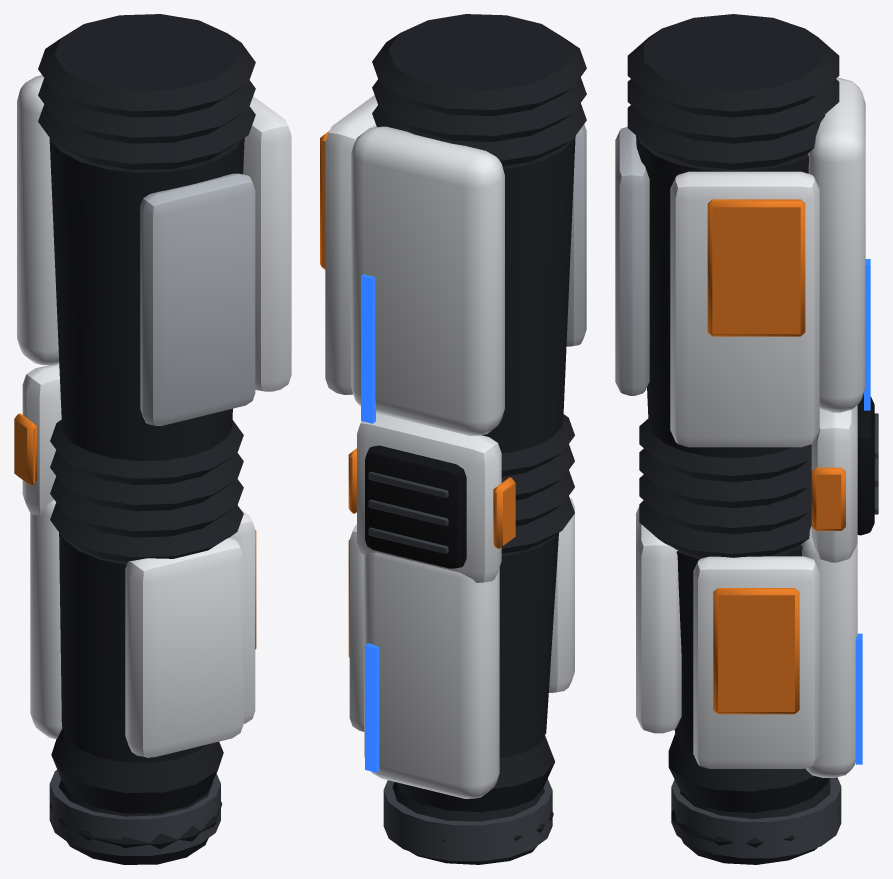
File: leg_r.glb
3 renders of one model, left to right at view 1: azimuth 30°, elevation 25°; view 2: azimuth 150°, elevation 25°; view 3: azimuth 270°, elevation 25°, orthographic.
Parts seen in each view (by area): view 1: LegR_Undersuit, ShinR_Suit_White, ShinR_Undersuit, LegR_Suit_Grey, LegR_Suit_White, ShinR_Metal_Dark, ShinR_Suit_Orange; view 2: LegR_Suit_White, LegR_Undersuit, ShinR_Suit_White, ShinR_Undersuit, ShinR_Metal_Dark, ShinR_Rubber, LegR_Suit_Grey, ShinR_Suit_Orange, LegR_Strip_Blue, ShinR_Strip_Blue, LegR_Suit_Orange; view 3: LegR_Undersuit, LegR_Suit_White, ShinR_Suit_White, ShinR_Undersuit, LegR_Suit_Orange, ShinR_Suit_Orange, LegR_Suit_Grey, ShinR_Metal_Dark, ShinR_Rubber, ShinR_Strip_Blue, LegR_Strip_Blue.
Part boxes in pixels (<box>): LegR_Undersuit: <box>38,14,255,511</box>; ShinR_Suit_White: <box>22,364,255,757</box>; ShinR_Undersuit: <box>50,476,243,864</box>; LegR_Suit_Grey: <box>140,173,255,425</box>; LegR_Suit_White: <box>17,75,291,391</box>; ShinR_Metal_Dark: <box>49,770,220,855</box>; ShinR_Suit_Orange: <box>14,413,256,649</box>; LegR_Suit_White: <box>325,95,504,435</box>; LegR_Undersuit: <box>372,14,586,500</box>; ShinR_Suit_White: <box>349,413,574,798</box>; ShinR_Undersuit: <box>392,470,574,864</box>; ShinR_Metal_Dark: <box>368,471,552,861</box>; ShinR_Rubber: <box>365,445,466,568</box>; LegR_Suit_Grey: <box>566,124,586,346</box>; ShinR_Suit_Orange: <box>348,448,515,657</box>; LegR_Strip_Blue: <box>361,274,375,423</box>; ShinR_Strip_Blue: <box>365,643,379,772</box>; LegR_Suit_Orange: <box>320,131,329,269</box>; LegR_Undersuit: <box>627,14,839,508</box>; LegR_Suit_White: <box>670,78,865,447</box>; ShinR_Suit_White: <box>636,405,857,777</box>; ShinR_Undersuit: <box>639,474,838,864</box>; LegR_Suit_Orange: <box>707,199,805,336</box>; ShinR_Suit_Orange: <box>713,467,845,714</box>; LegR_Suit_Grey: <box>615,127,649,395</box>; ShinR_Metal_Dark: <box>671,413,878,858</box>; ShinR_Rubber: <box>857,393,874,535</box>; ShinR_Strip_Blue: <box>855,633,862,764</box>; LegR_Strip_Blue: <box>864,259,870,410</box>.
Bounding box in the file's own units: 0.2219 × 0.7532 × 0.2295.
